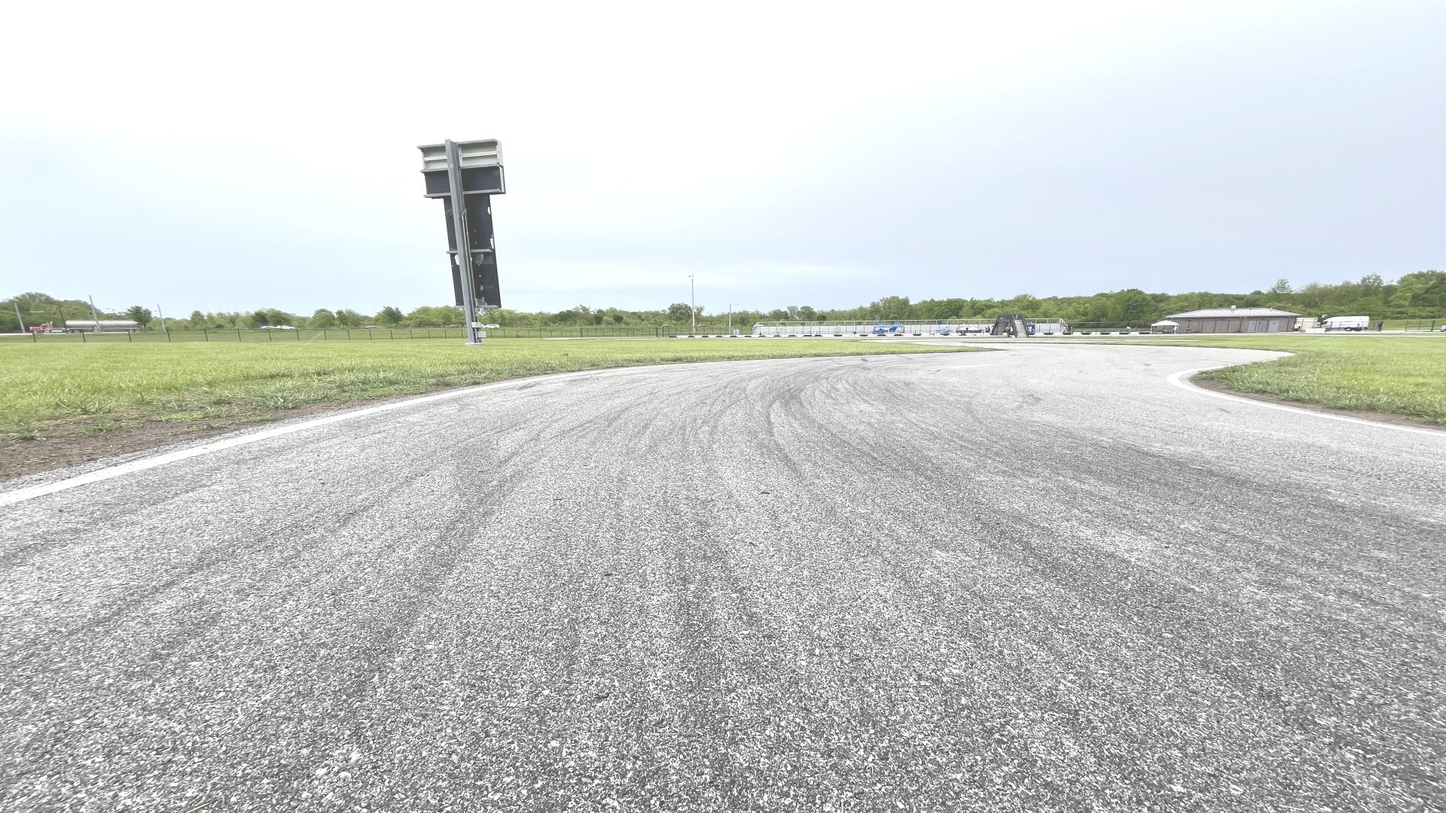white-line: (1, 351, 1004, 509), (1166, 364, 1445, 438), (1039, 344, 1291, 362)
